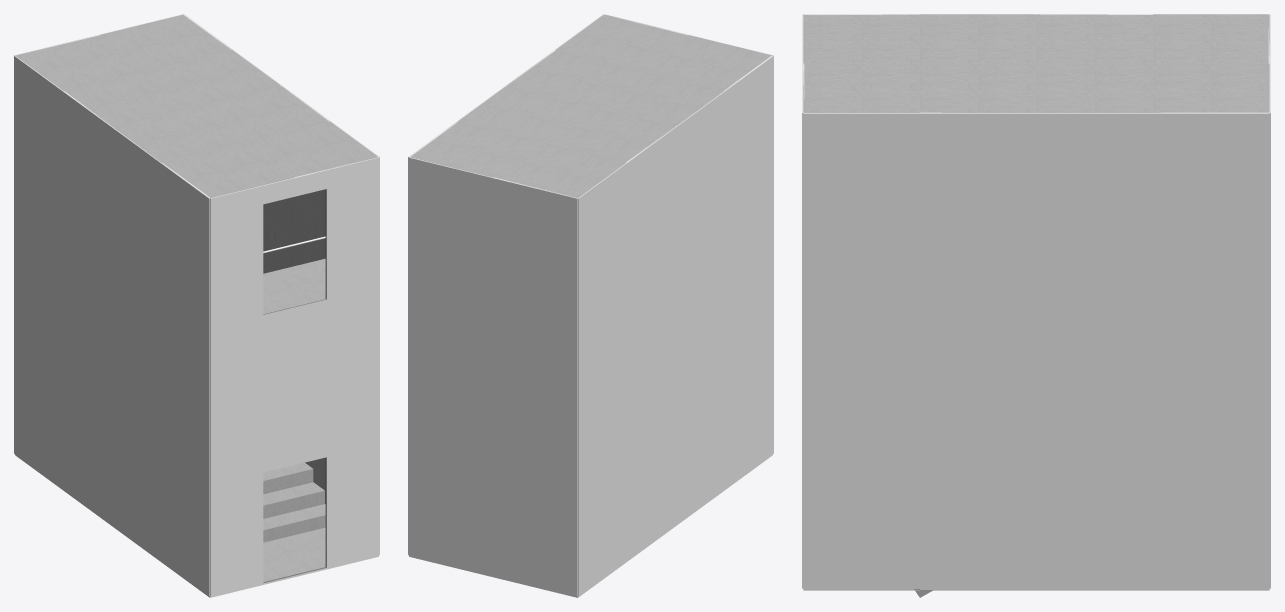
Rendered from Stair01_V2.fbx.
3 views of the same model, side by side, from view 1: azimuth 30°, elevation 25°; view 2: azimuth 150°, elevation 25°; view 3: azimuth 270°, elevation 25° (orthographic). The views are drawn at different scales.
Parts seen in each view (by area): view 1: node_id9 (×3); view 2: node_id9 (×2); view 3: node_id9 (×2).
Boxes of the visible parts, x1=… form: node_id9 (×3): x1=14, y1=14, x2=379, y2=597; node_id9 (×2): x1=408, y1=14, x2=773, y2=597; node_id9 (×2): x1=802, y1=14, x2=1270, y2=597.
Size of the model in its own units: 0.2253 by 0.512 by 0.4484.
Materials: 4 (1 with a texture image).
